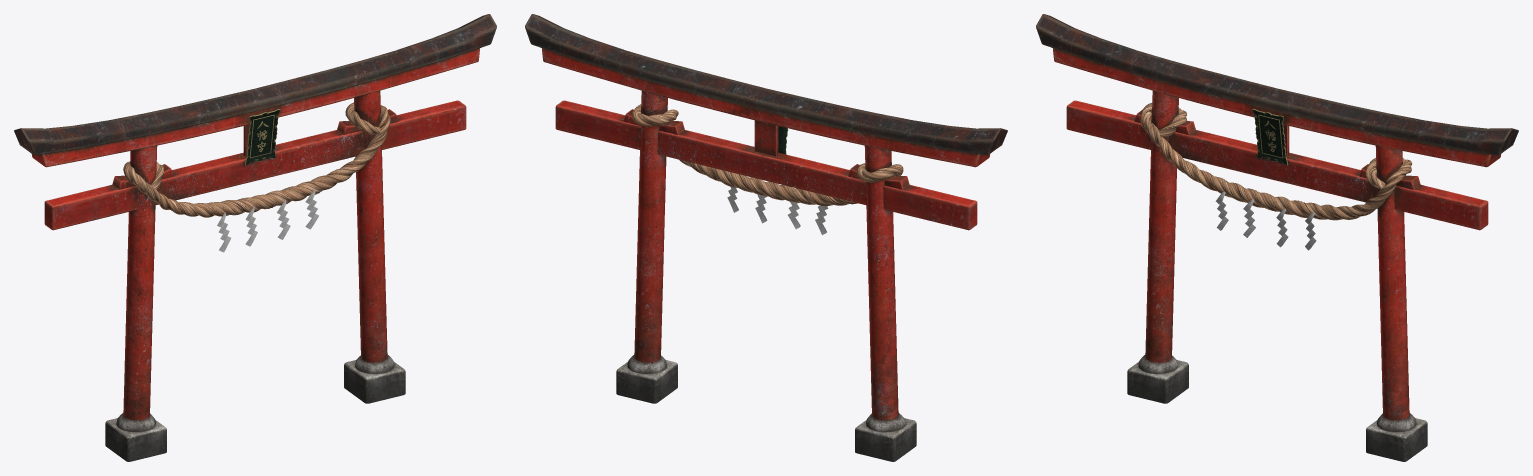
File: Torii.fbx
3 renders of one model, left to right at view 1: azimuth 30°, elevation 25°; view 2: azimuth 150°, elevation 25°; view 3: azimuth 330°, elevation 25°, orthographic.
Visible parts, largest first — view 1: Torii.Shape; view 2: Torii.Shape; view 3: Torii.Shape.
Part boxes in pixels (left/top/right/bottom): Torii.Shape: left=14, top=14, right=496, bottom=461; Torii.Shape: left=525, top=14, right=1007, bottom=461; Torii.Shape: left=1036, top=14, right=1518, bottom=461.
Size of the model in its own units: 747 by 530 by 68.92.
